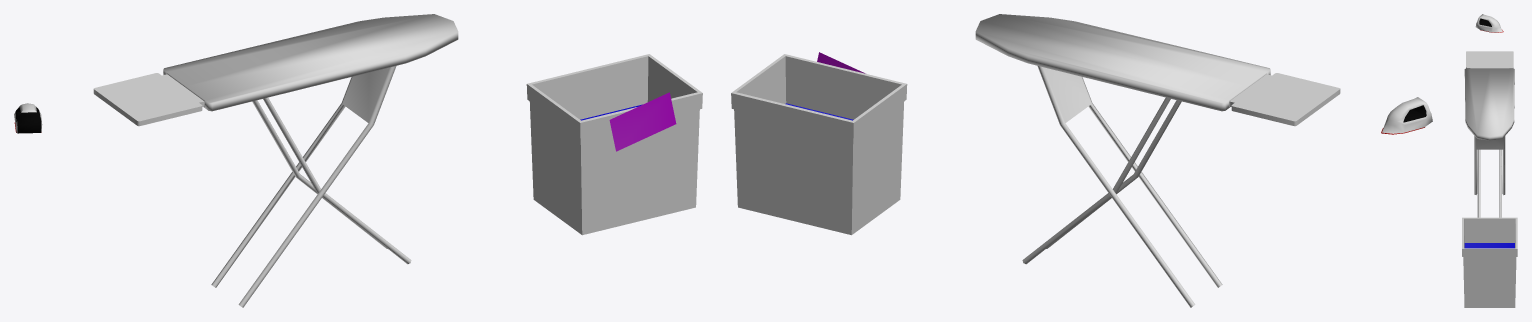
Rendered from laundry.fbx.
3 renders of one model, left to right at view 1: azimuth 30°, elevation 25°; view 2: azimuth 150°, elevation 25°; view 3: azimuth 270°, elevation 25°, orthographic. The views are drawn at different scales.
Parts seen in each view (by area): view 1: basket, ironing_board, iron; view 2: basket, ironing_board, iron; view 3: ironing_board, basket, iron.
Boxes of the visible parts, x1,y1,x2,y2 form: basket: [526, 54, 702, 235]; ironing_board: [93, 14, 458, 307]; iron: [14, 103, 42, 133]; basket: [731, 52, 907, 235]; ironing_board: [975, 14, 1340, 307]; iron: [1381, 97, 1432, 134]; ironing_board: [1464, 51, 1514, 217]; basket: [1462, 217, 1517, 307]; iron: [1475, 14, 1503, 32].
Bounding box in the file's own units: 267 × 92.82 × 37.52.
